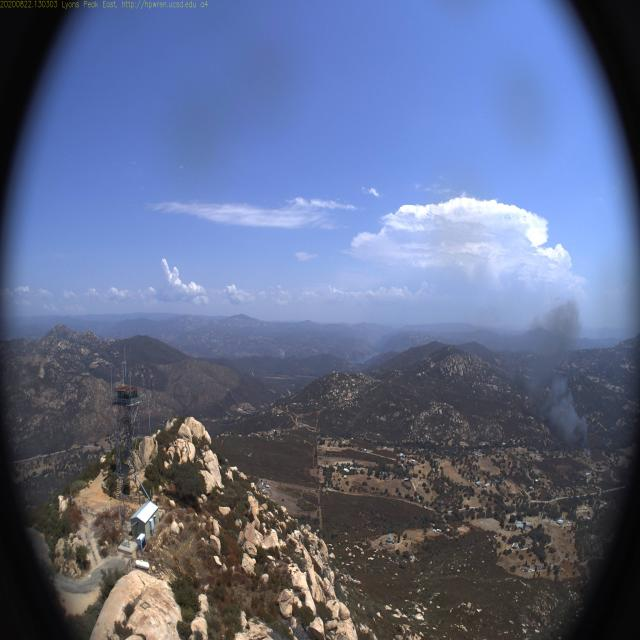smoke: (538, 292, 594, 453), (482, 270, 538, 415)
